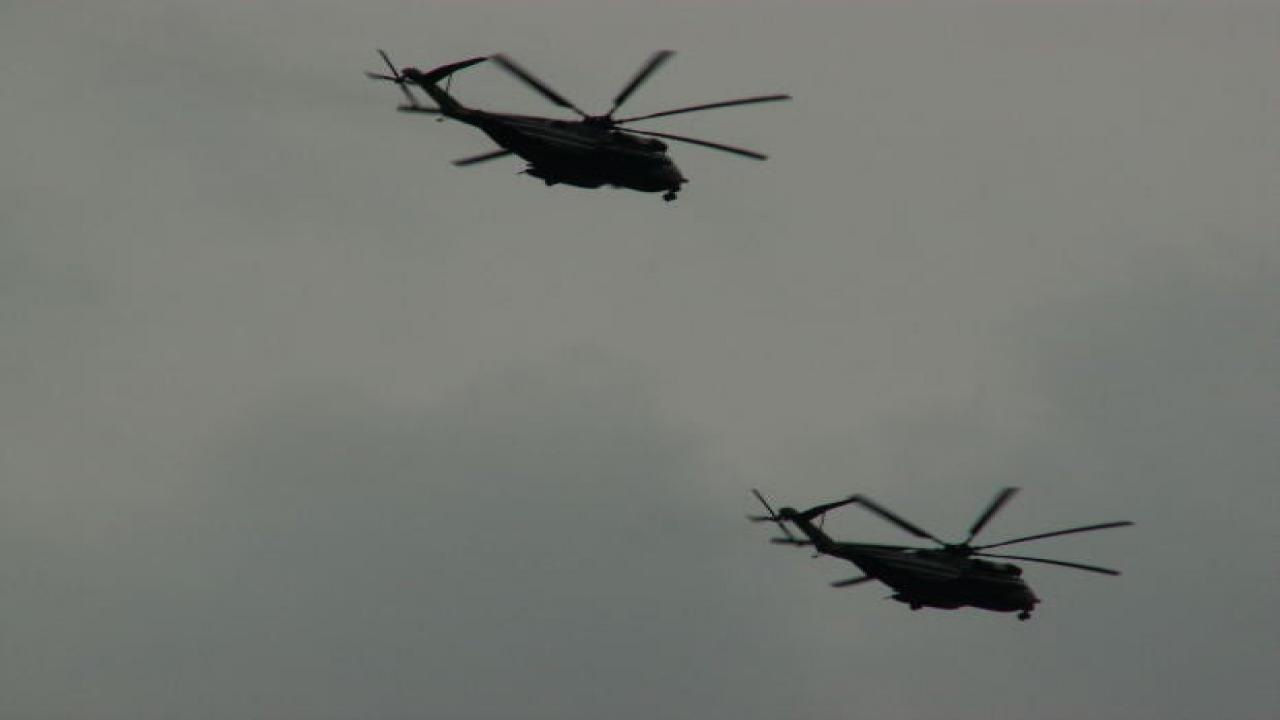Helicopter: (356, 36, 801, 209), (738, 477, 1150, 632)
